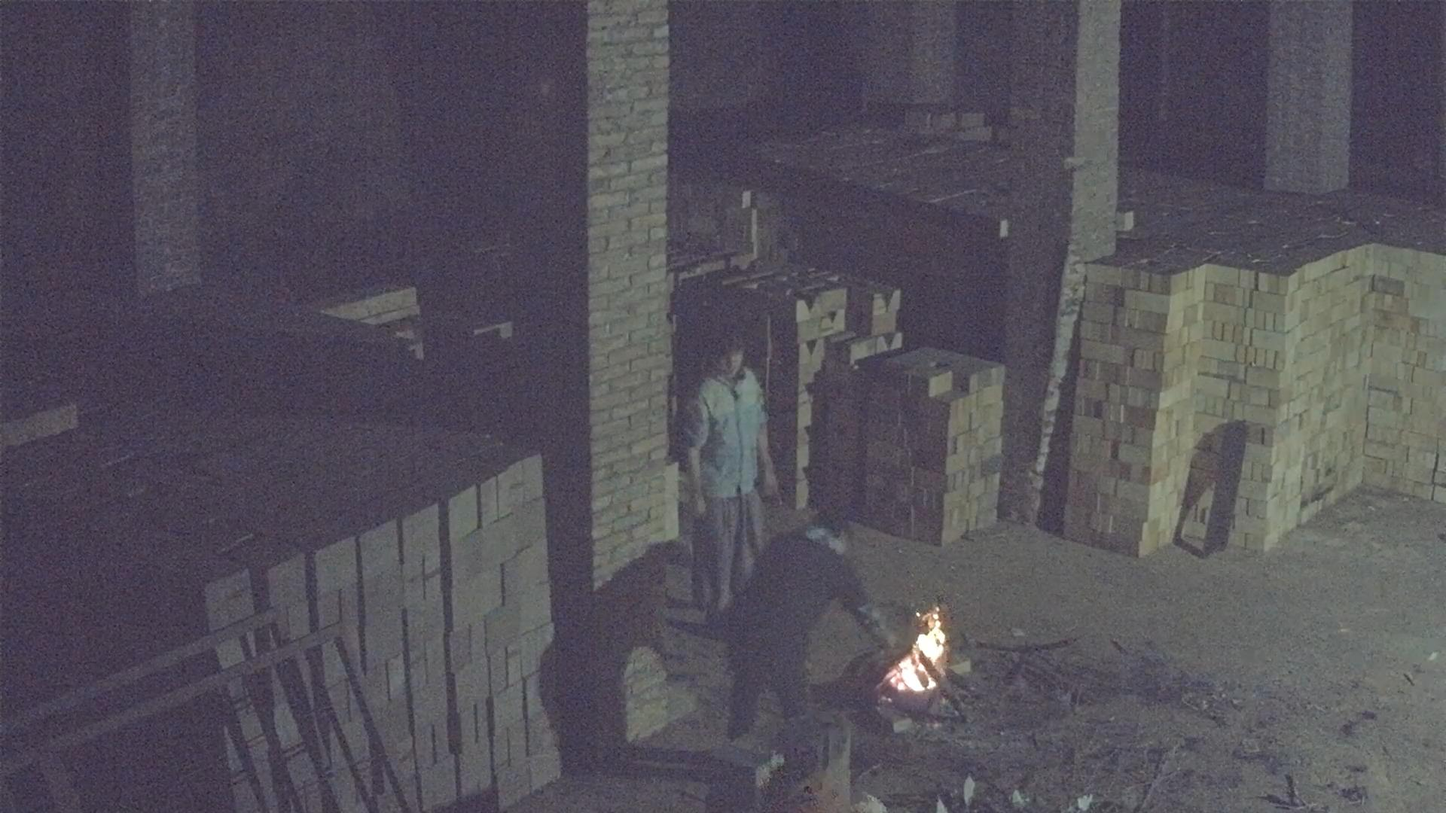fire: (878, 608, 949, 700)
